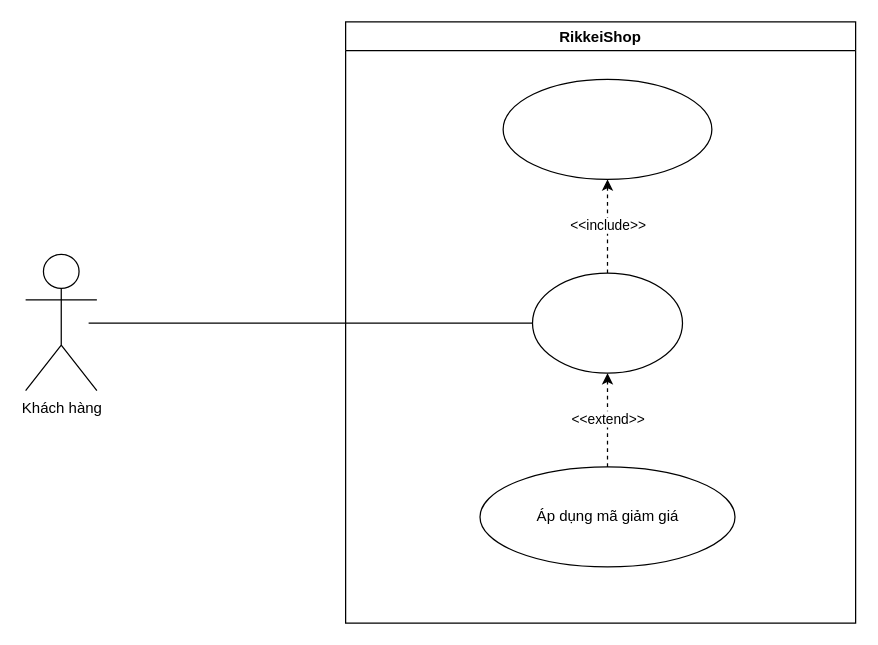
This 878x645 diagram has some shape labels left out. Each missing label, with the centre of its shape:
"KIểm tra giỏ hàng" goes at (607,128).
"Đặt hàng" goes at (606,322).
